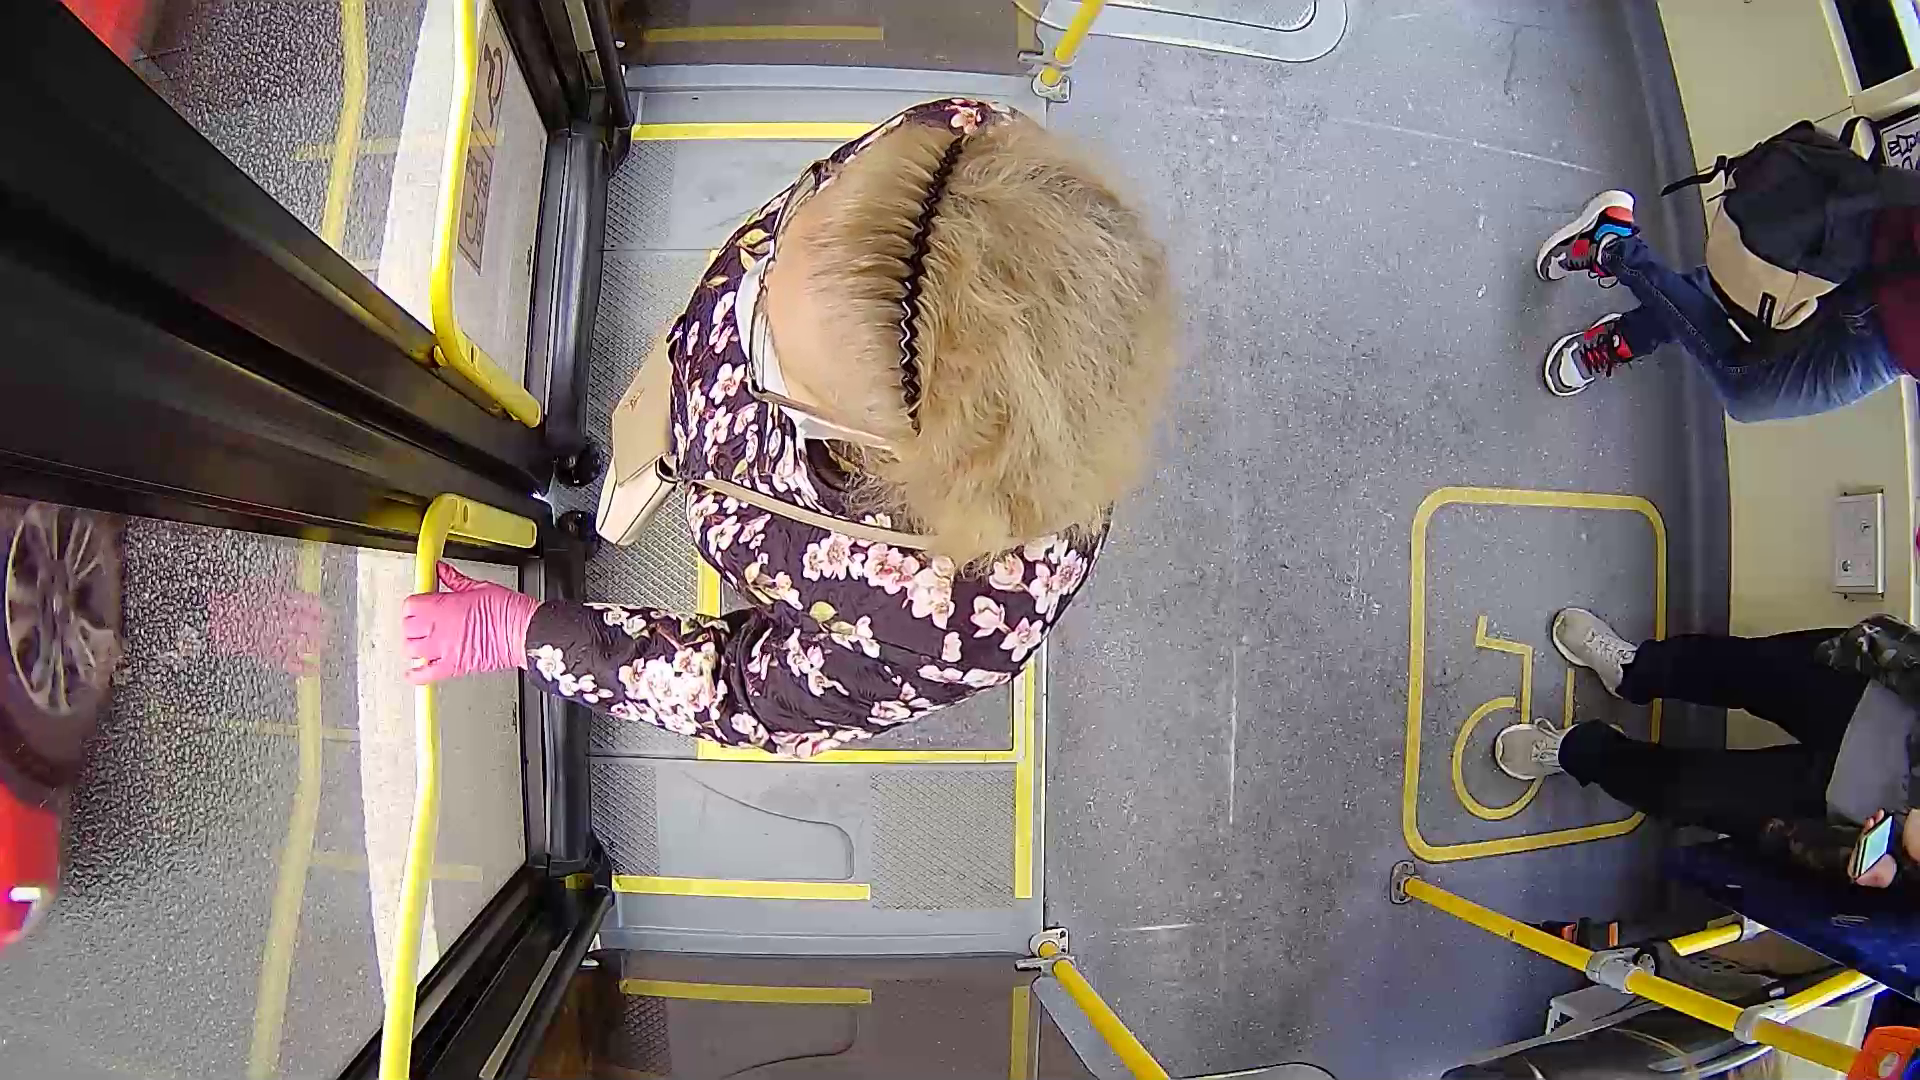person: (442, 105, 1238, 699)
